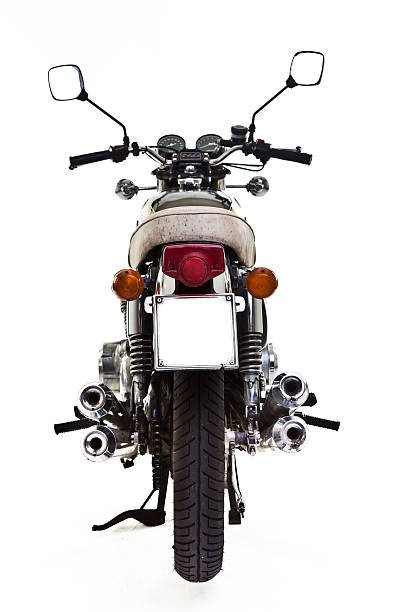motor: (78, 136, 322, 587)
